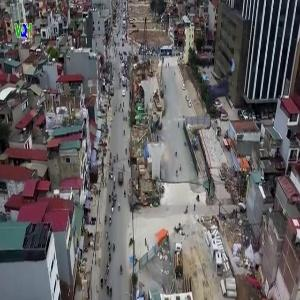drone: (191, 56, 249, 114)
